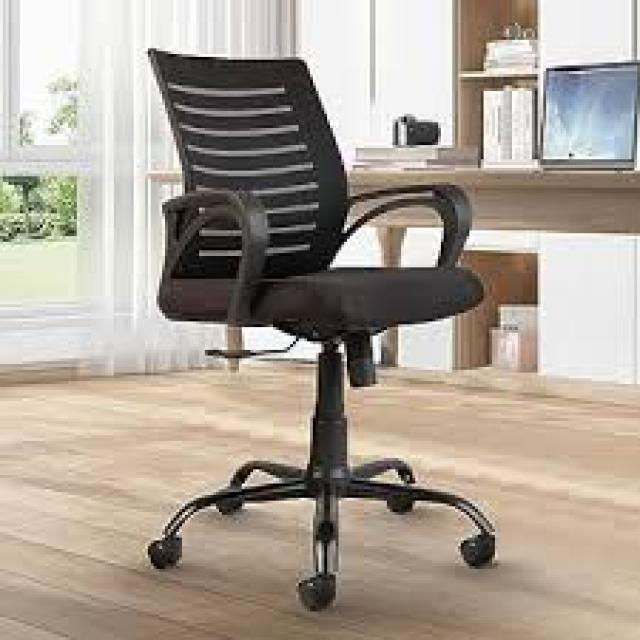chair: (46, 5, 537, 638)
